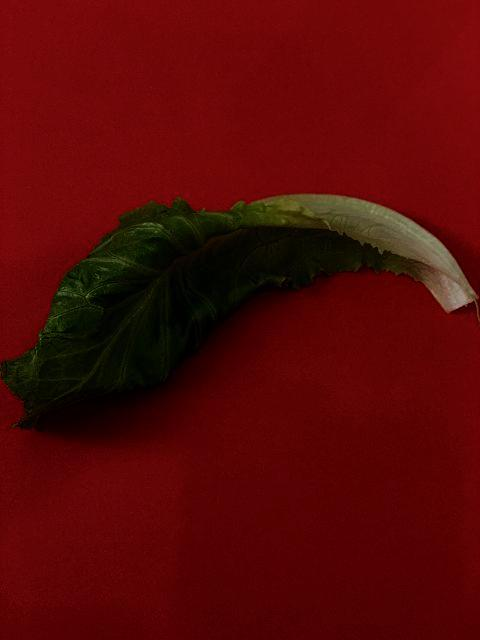lettuce: (0, 192, 480, 432)
